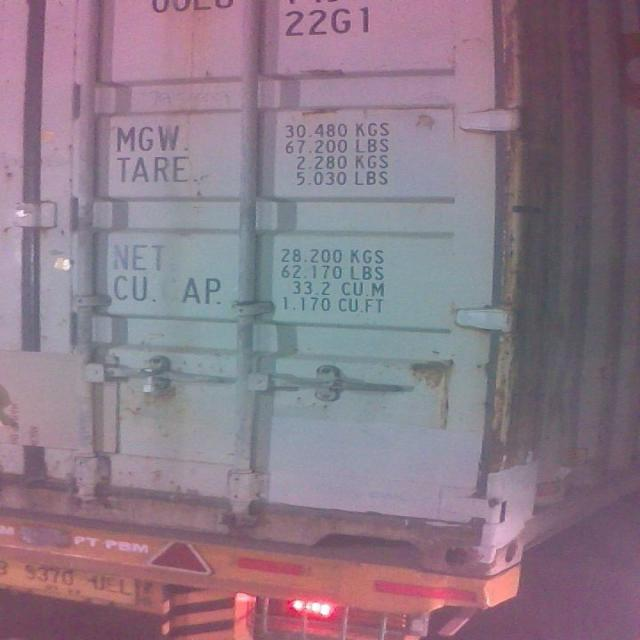seal: (139, 365, 164, 396)
